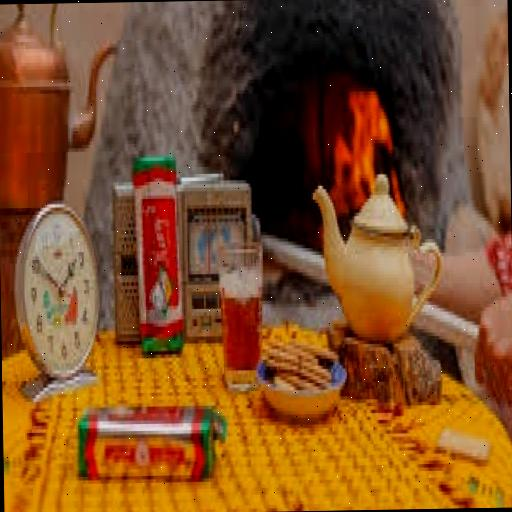golden: (97, 120, 242, 368), (49, 359, 272, 512)
